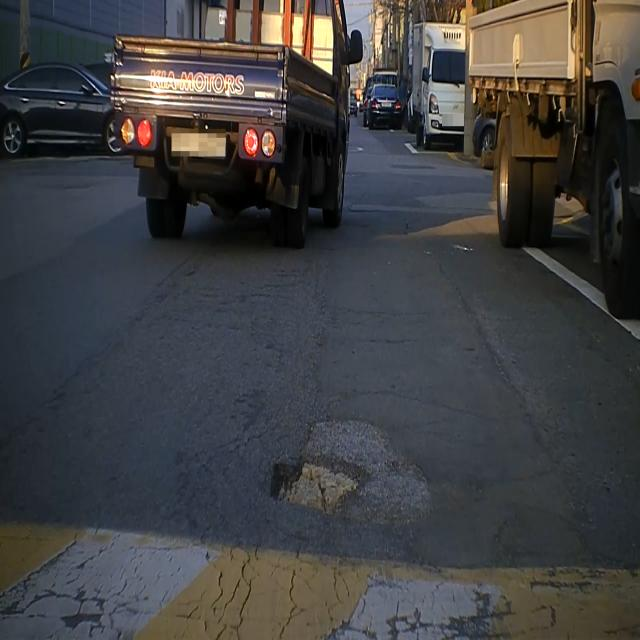Pothole: (263, 418, 436, 543)
